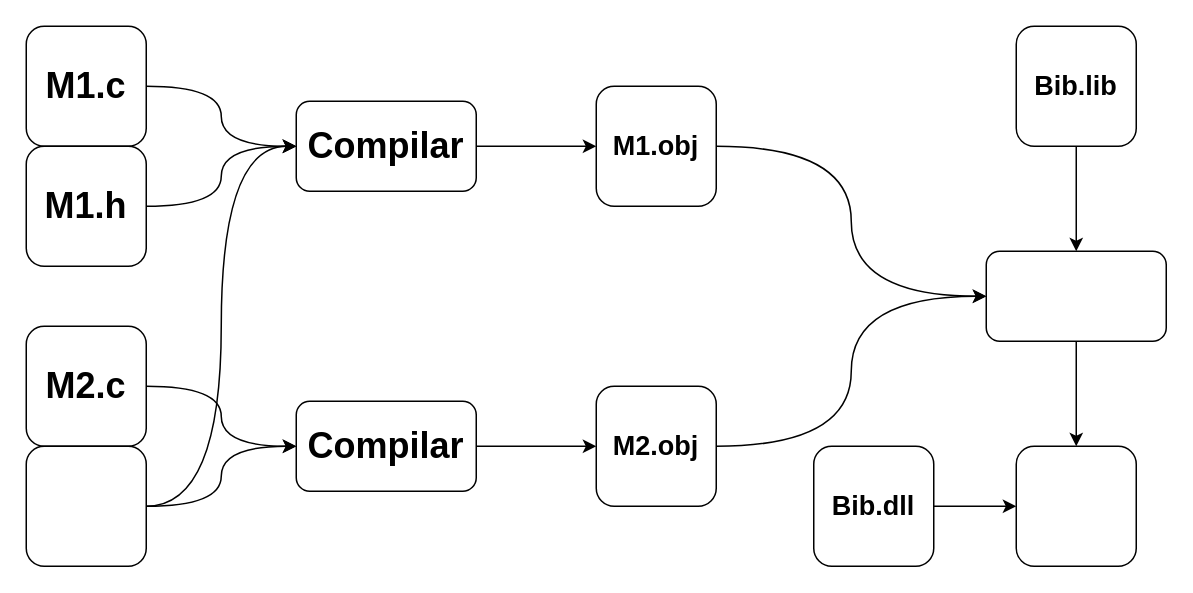
Some shapes in this 1193 by 593 pixel diagram are drawn without their labels. The shapes that lost their labels are listed below. From the top down, each one's centre as x and y in pixels, then its label:
At point (1075, 295): "Linker".
At point (85, 505): "M2.h".
At point (1075, 505): ".exe".
